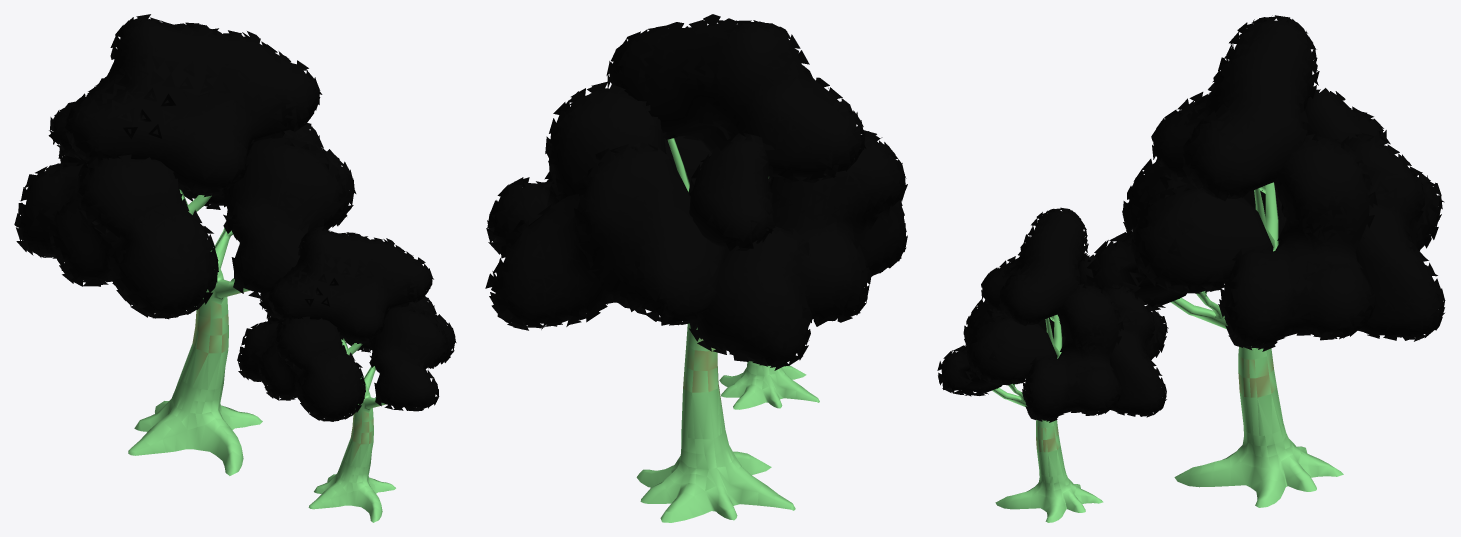
Rendered from SM_ENV_LKNVLD_TreeSet_P.gltf.
3 views of the same model, side by side, from view 1: azimuth 30°, elevation 25°; view 2: azimuth 150°, elevation 25°; view 3: azimuth 270°, elevation 25° (orthographic). The views are drawn at different scales.
Visible parts, largest first — view 1: SM_ENV_LKNVLD_TreeSet_P; view 2: SM_ENV_LKNVLD_TreeSet_P; view 3: SM_ENV_LKNVLD_TreeSet_P.
Part boxes in pixels (x1=…): SM_ENV_LKNVLD_TreeSet_P: x1=14, y1=14, x2=456, y2=522; SM_ENV_LKNVLD_TreeSet_P: x1=485, y1=14, x2=907, y2=522; SM_ENV_LKNVLD_TreeSet_P: x1=937, y1=15, x2=1445, y2=522.
Bounding box in the file's own units: 13.72 × 19.04 × 19.79.
